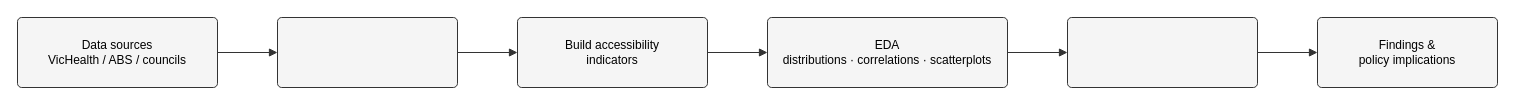
This 1515x105 diagram has some shape labels left out. The centre of each missing label's shape, as x and y in pixels:
"Data cleaning & harmonisation" goes at (x=367, y=52).
"Regression models with controls" goes at (x=1162, y=52).
